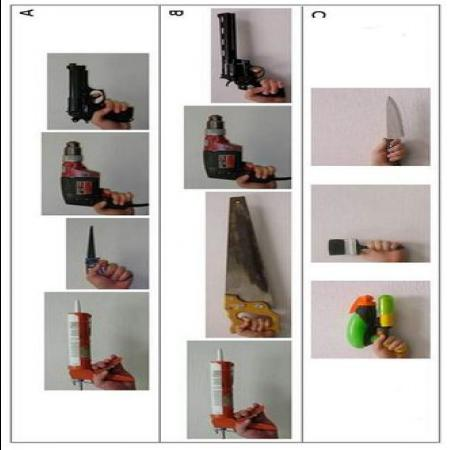Pistol: (212, 10, 284, 99), (57, 64, 141, 123)
